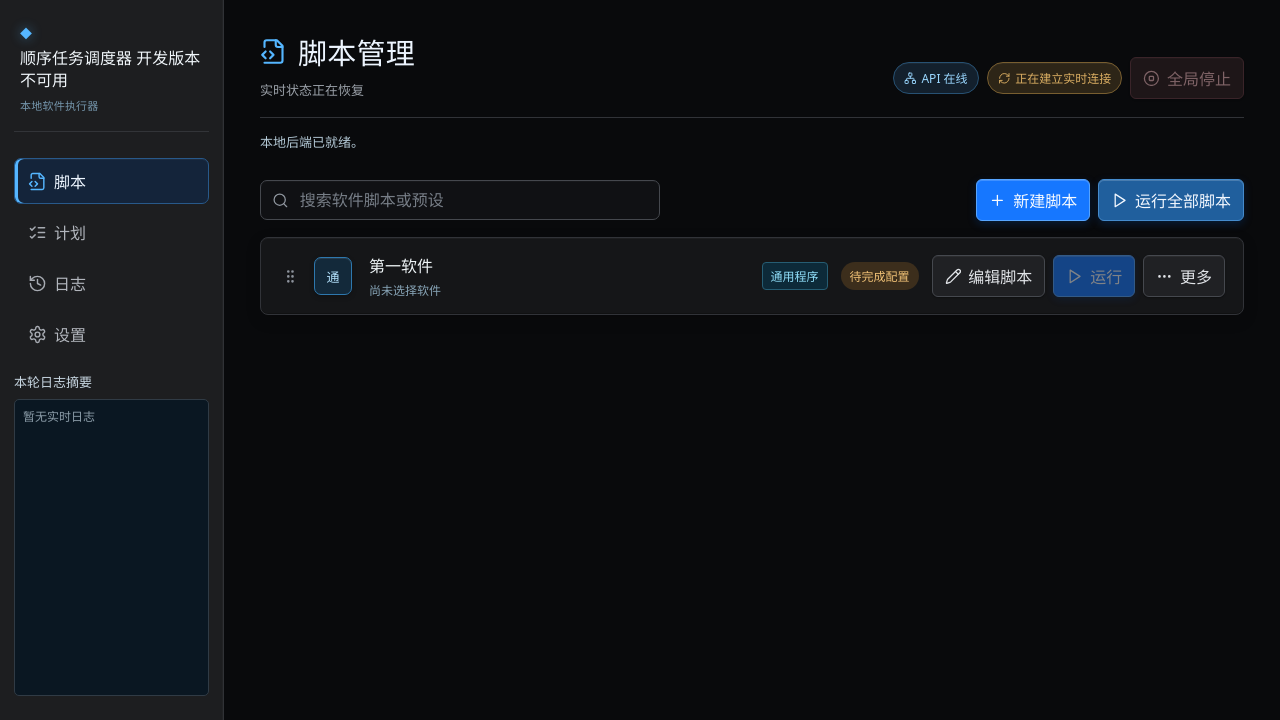
Test case: shows only Android emulator connection controls for an MAA script
Step 1. Click the button "编辑脚本" → (988,276), box top-left (932, 255), bottom-right (1045, 297)
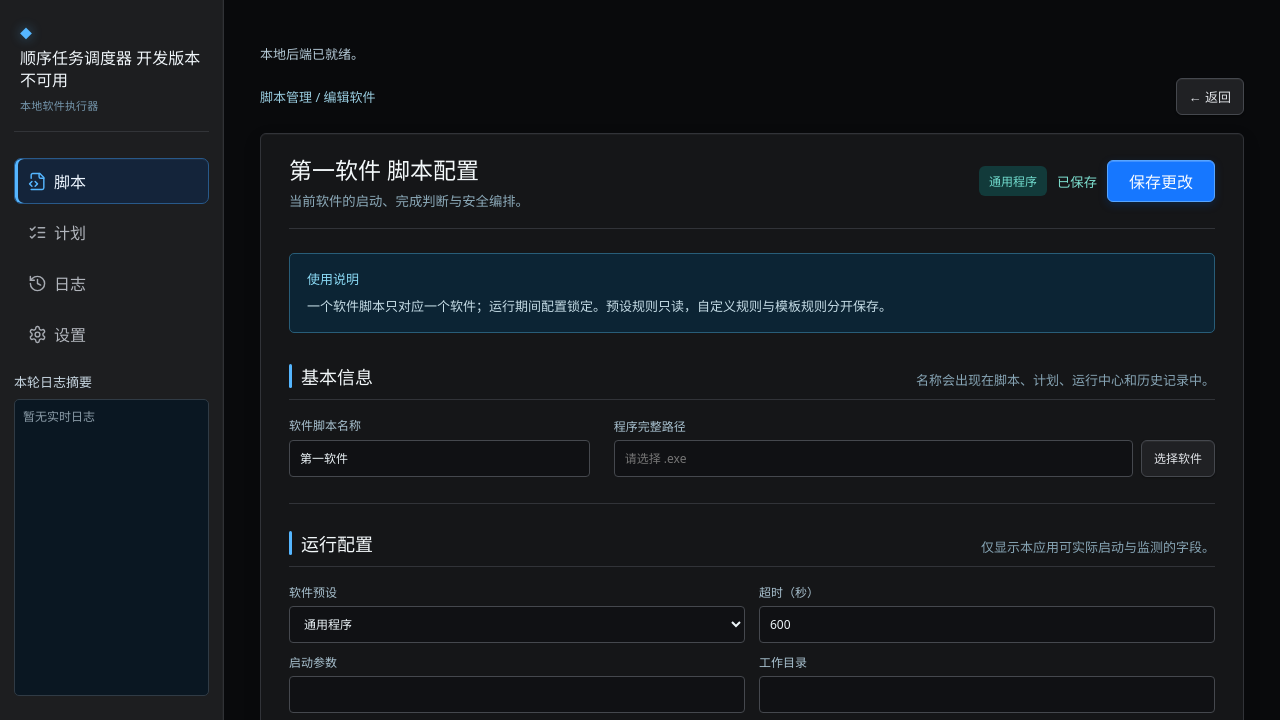
Step 2. Select "MAA" in the dropdown labelled "软件预设" → (517,624), box top-left (289, 606), bottom-right (745, 643)
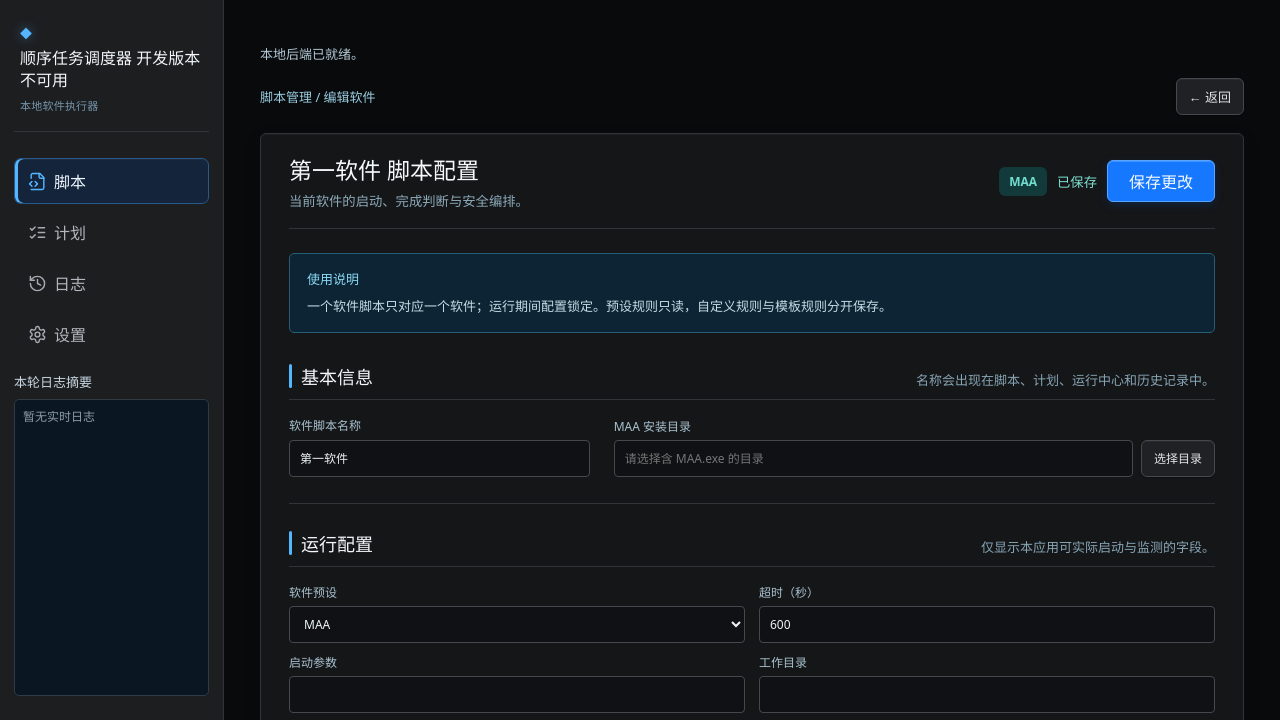
Expected: the text "MAA 安装目录" is shown, top-left (614, 418), bottom-right (691, 435)
